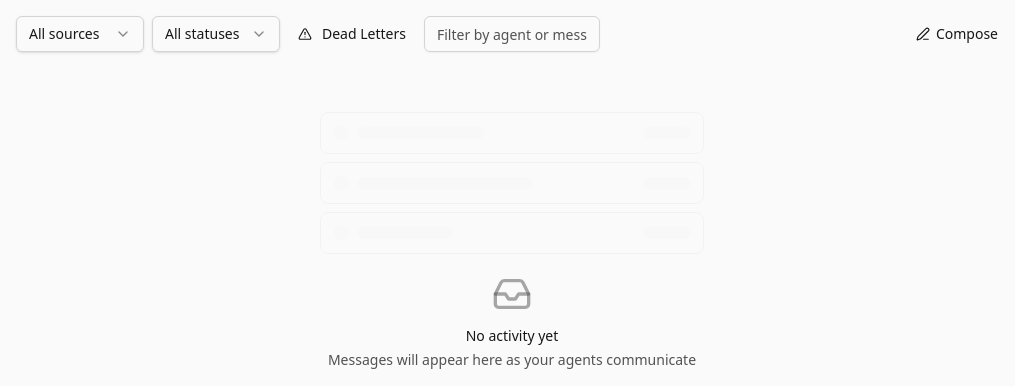
Test: ActivityFeed › empty state › clears filters when "Clear filters" in the empty state is clicked
The width and height of the screenshot is (1015, 386).
Type "zzznomatch" into the field with placeholder "Filter by agent or message...". click: (512,34)
box: [424,16,600,52]
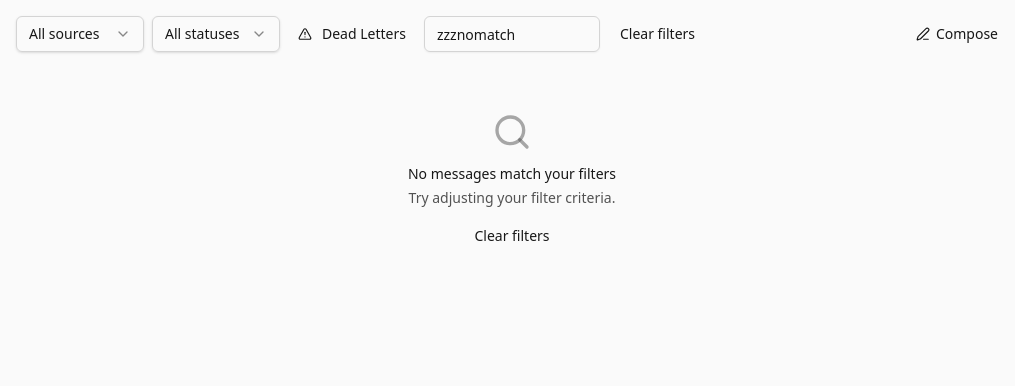
Now the text "No messages match your filters" is shown, box [408,164,616,184]
// Click the "Clear filters" button that appears inside the empty state
Click the button "Clear filters" below "Try adjusting your filter criteria.". click: (512,236)
box: [462,220,562,252]
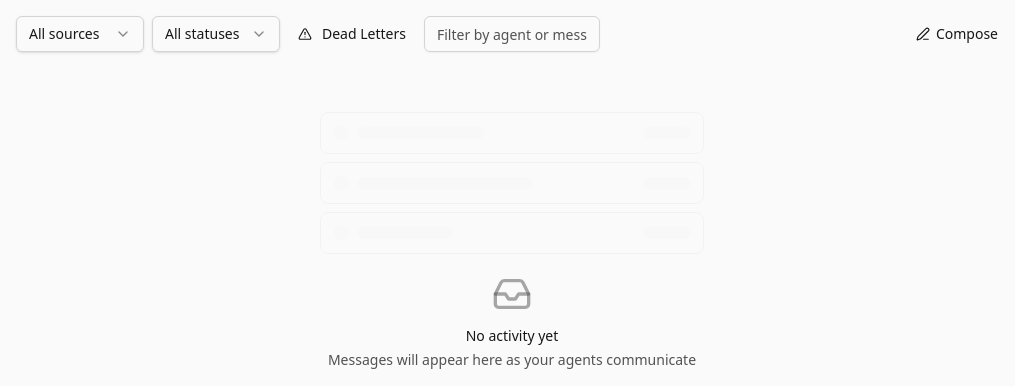
Now the text "No activity yet" is shown, box [466,326,558,345]
